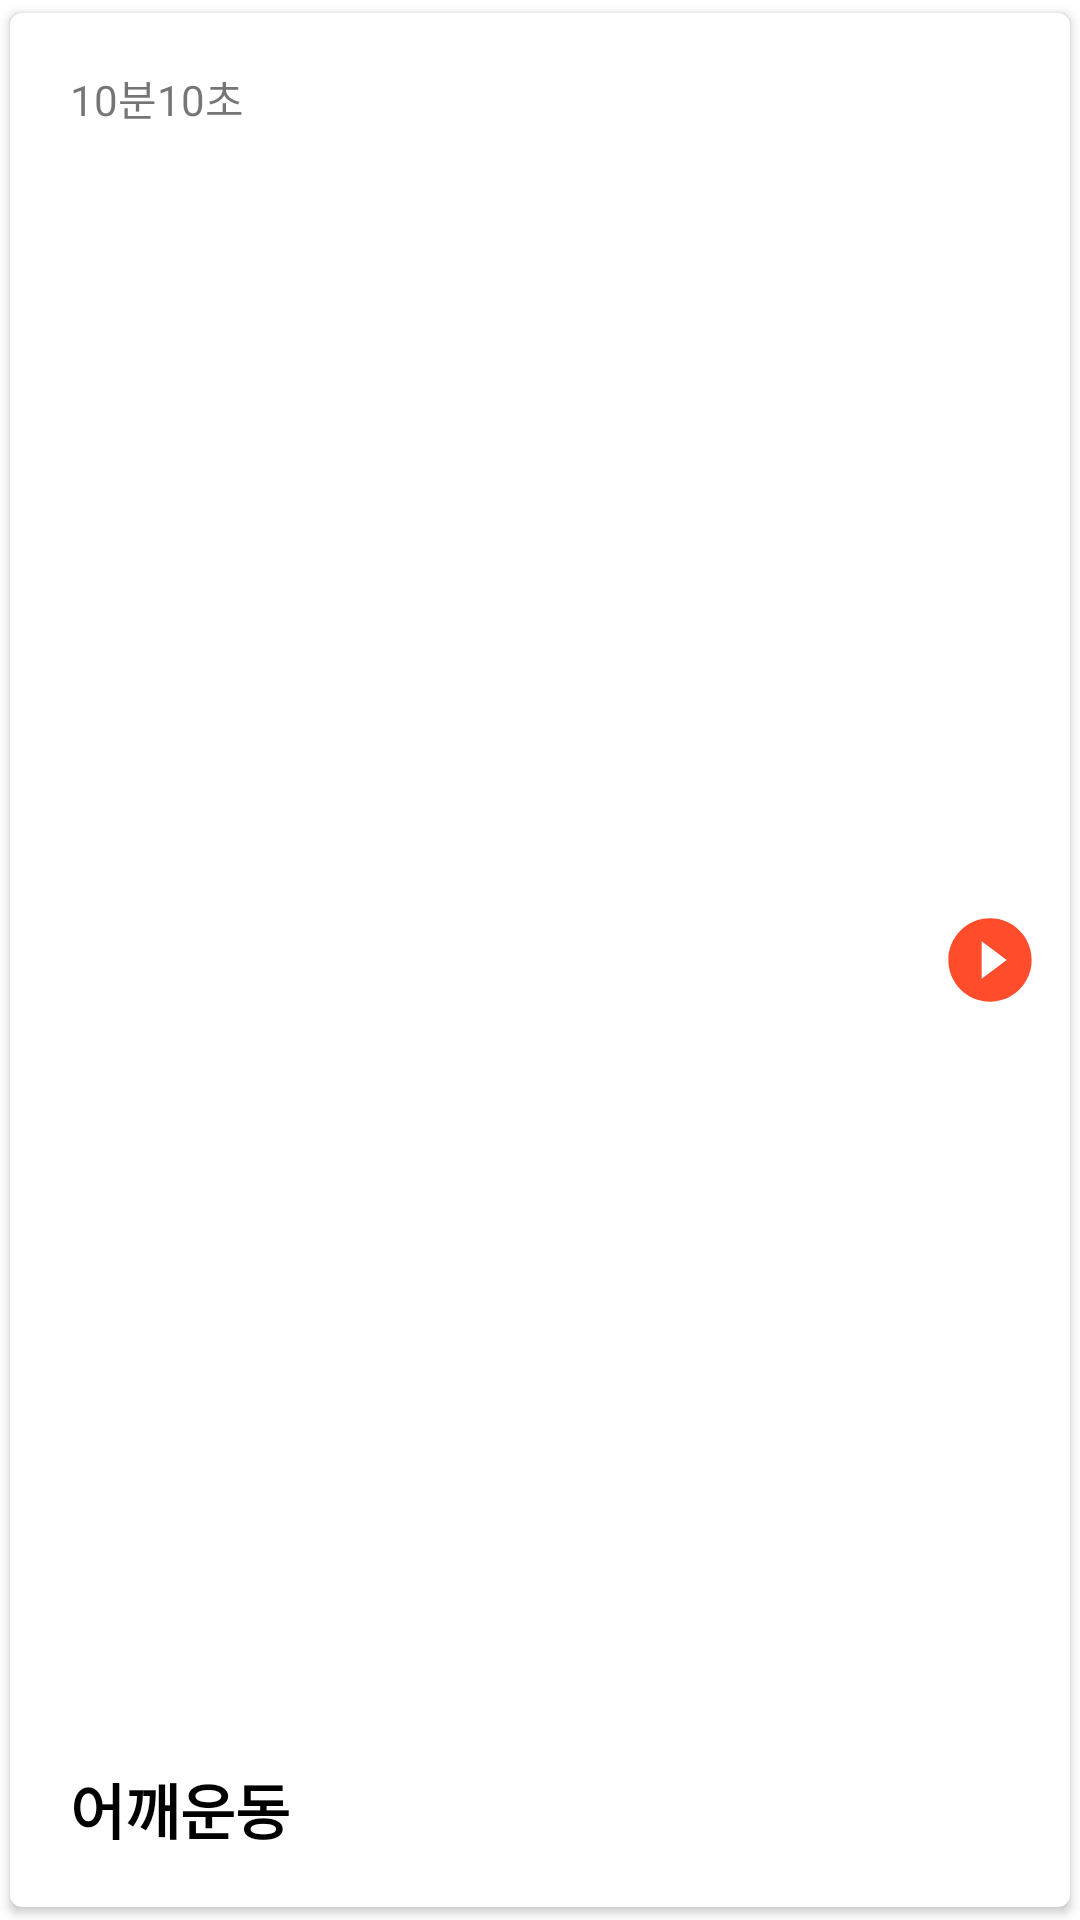

Point at icon controls on the screen. Image size 1080px×1920px, points as (x,y).
play video: (990,960)
